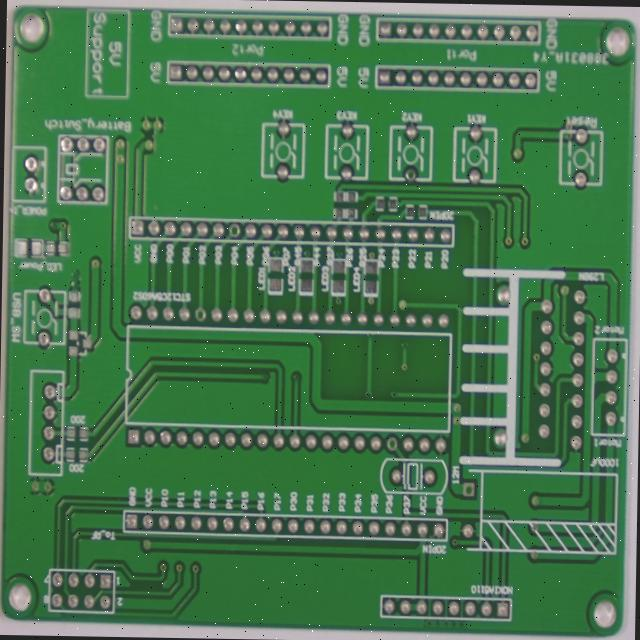missing_hole: (397, 459, 413, 483), (197, 325, 214, 345), (477, 510, 494, 530), (234, 234, 250, 254), (417, 174, 433, 193)
